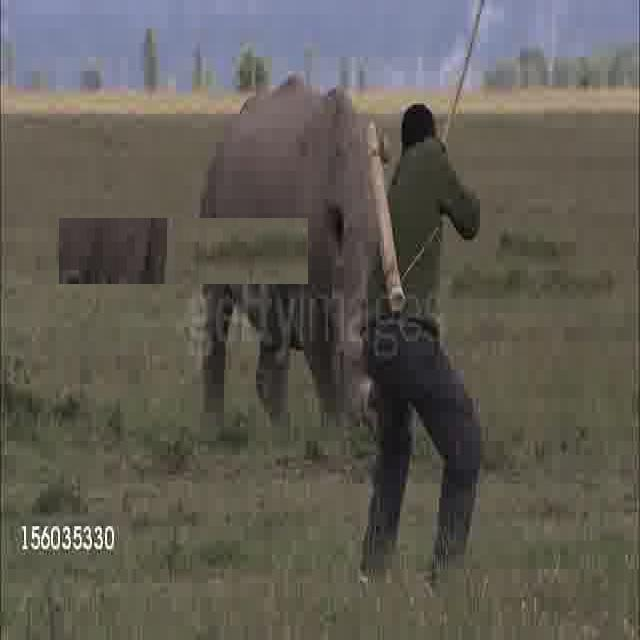poacher: (263, 181, 427, 587)
weapon: (59, 218, 308, 284)
